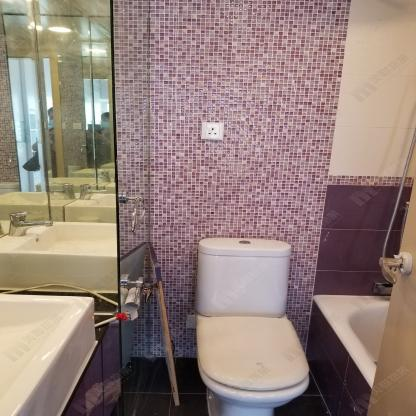Bathtub: (305, 295, 390, 416)
Toilet: (194, 236, 311, 416)
Toilet Sink: (0, 291, 97, 416)
